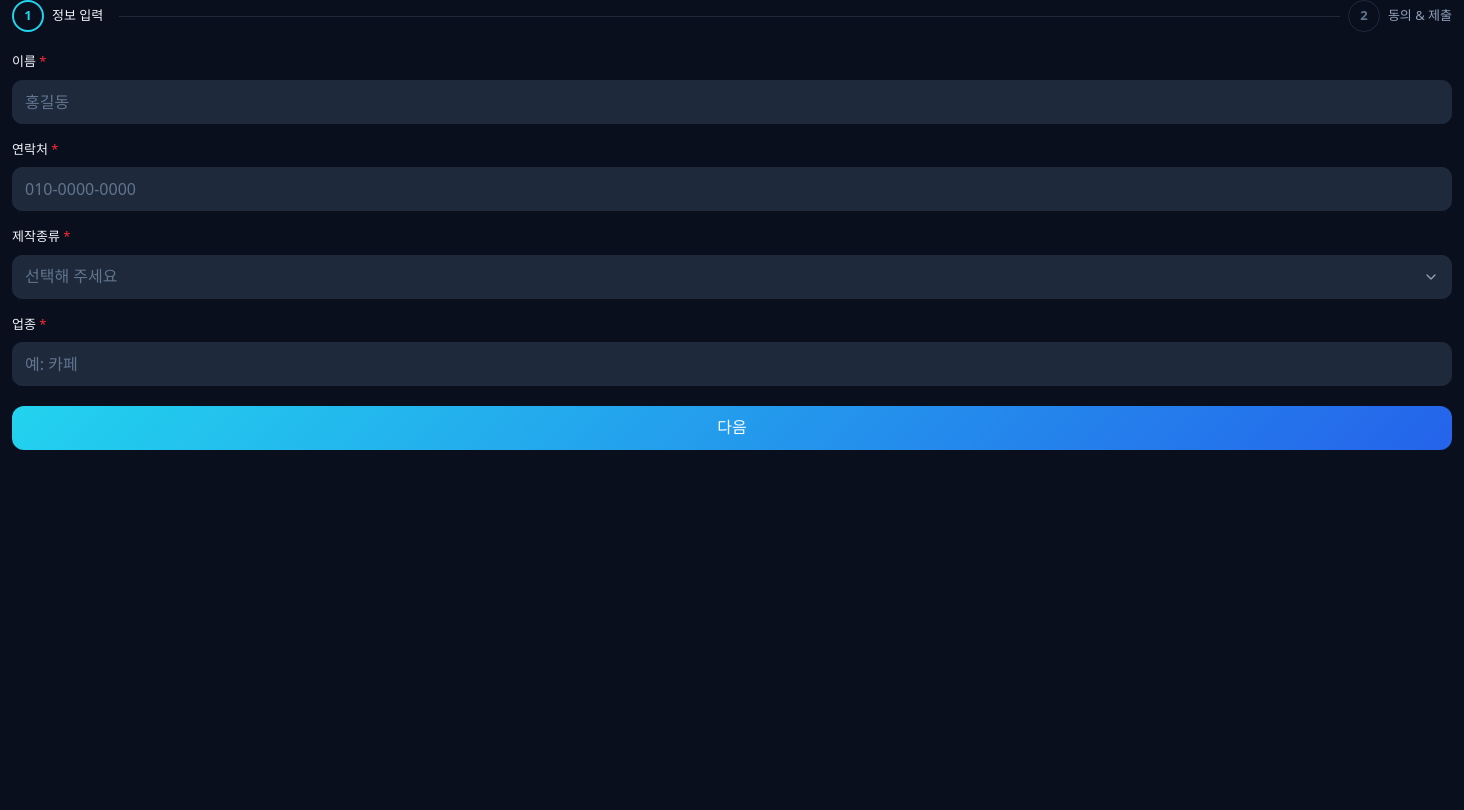
Test case: InquiryForm — 스텝 › 1단계 필수 미입력 시 다음으로 못 넘어가고 에러
Click the button "다음": [732, 428] box [12,406,1452,450]
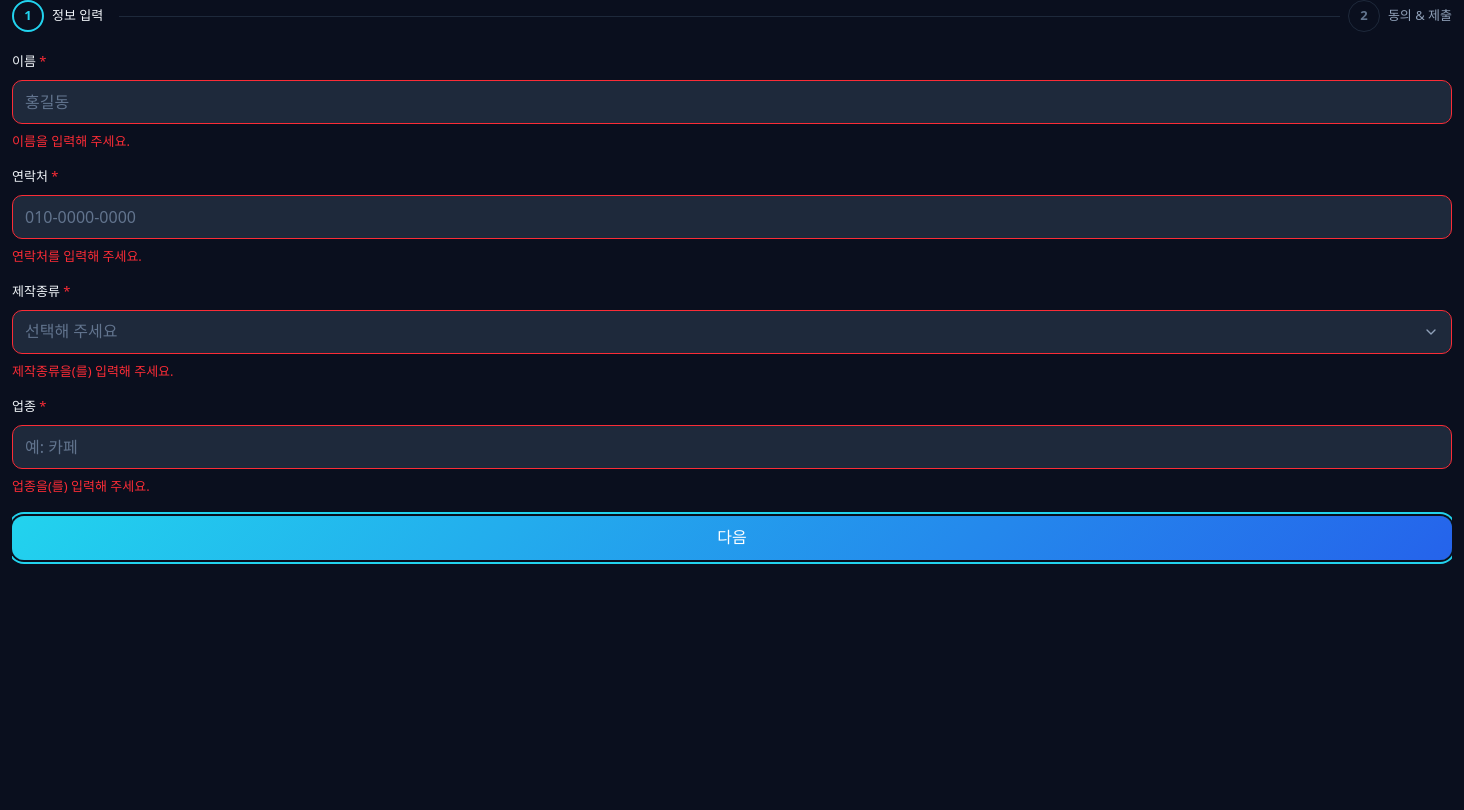
Expected: the field labelled "이름 *" is shown, [12,80,1452,124]
Result: the text "이름을 입력해 주세요." is shown at [12,132,130,150]
